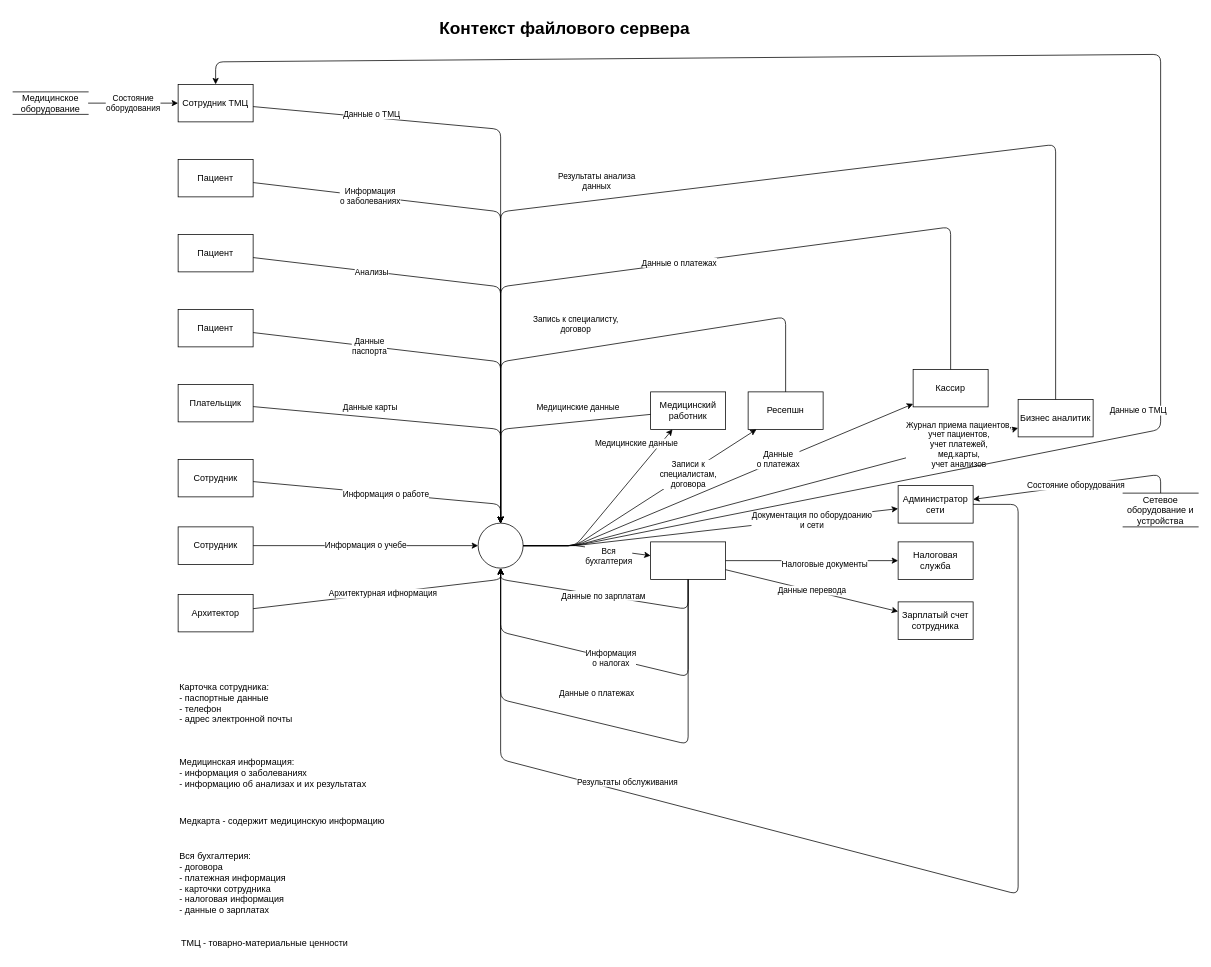
This 1211x967 diagram has some shape labels left out. The box of each missing label's shape, as (x1, y1, x2, y2) in pixels:
Бухгалтерия: (650, 541, 726, 579)
Работа с файловым сервером: (477, 522, 523, 568)
